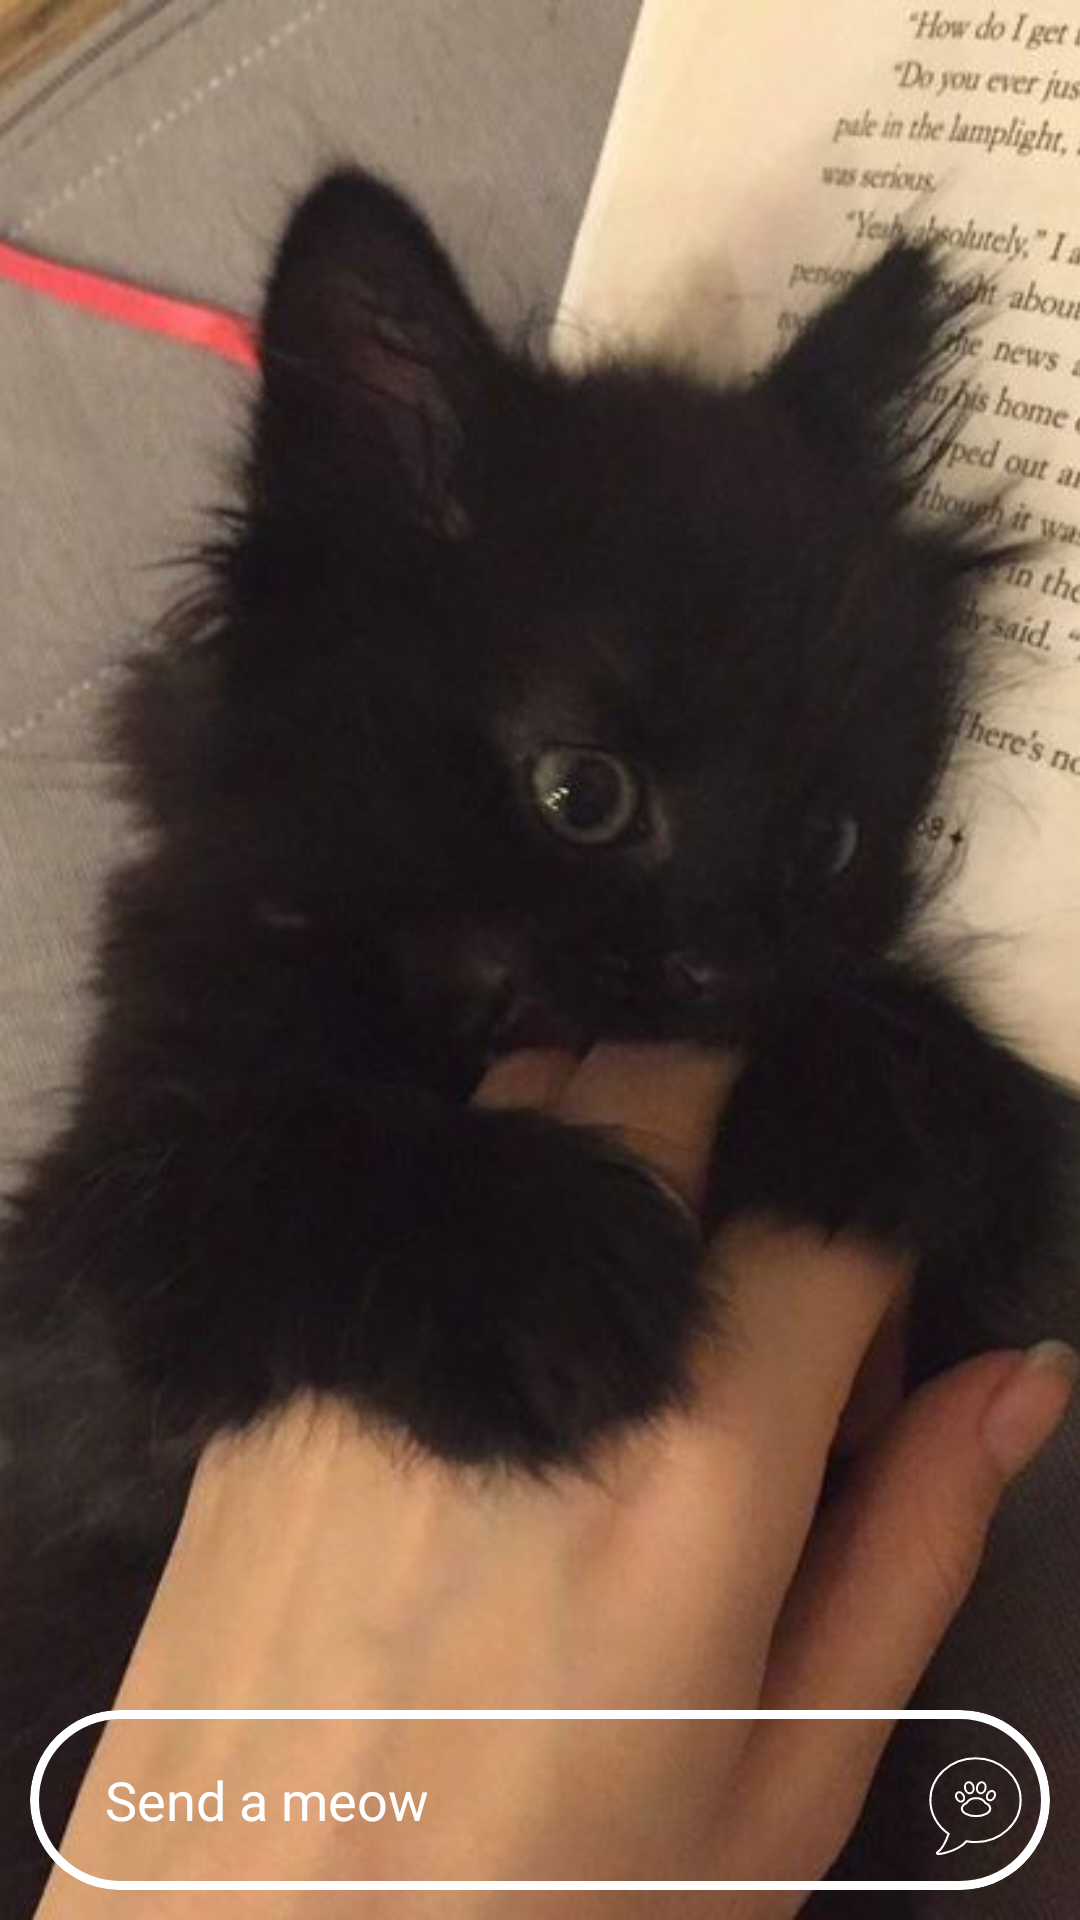

Icons on this 1080w x 1920h Android screen, each with the point to tap as (x,y):
story cat message: (975,1800)
